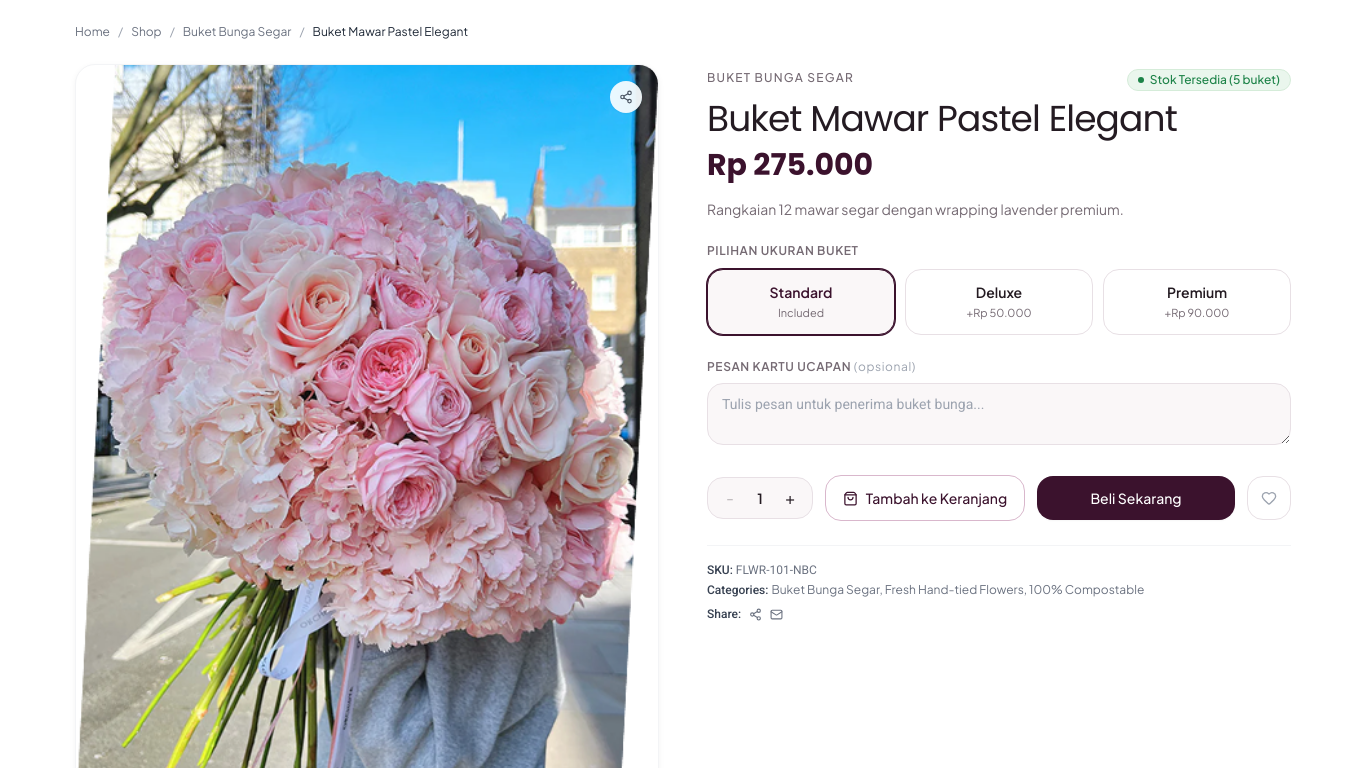
it: ProductDetailPage Component › harus menampilkan notifikasi saat tombol Tambah ke Keranjang ditekan
What coordinates should you click on to do the following:
click the button "Tambah ke Keranjang"
I would click on:
 (925, 498)
Its box is [825,475,1025,521].
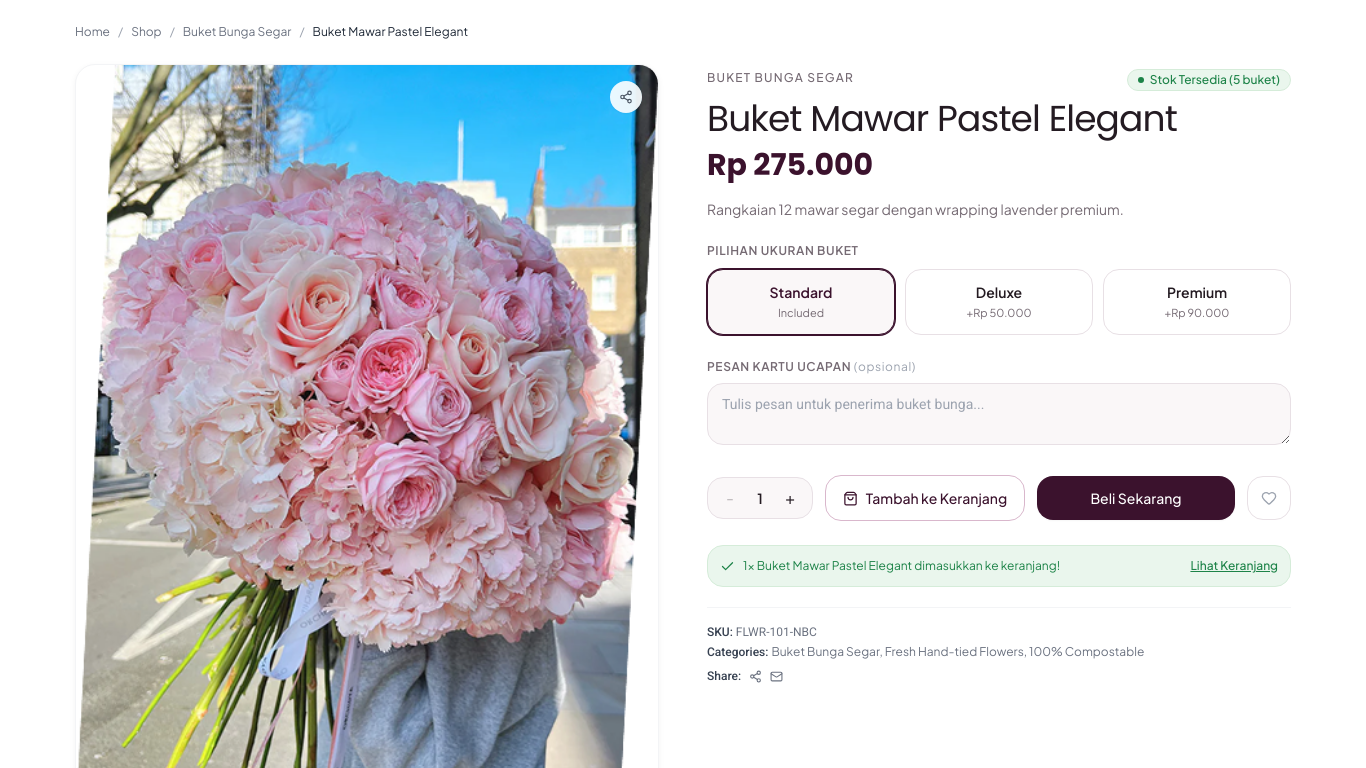
expect the text "1x Buket Mawar Pastel Elegant dimasukkan ke keranjang!" is shown: met, box [743,558,1060,574]
